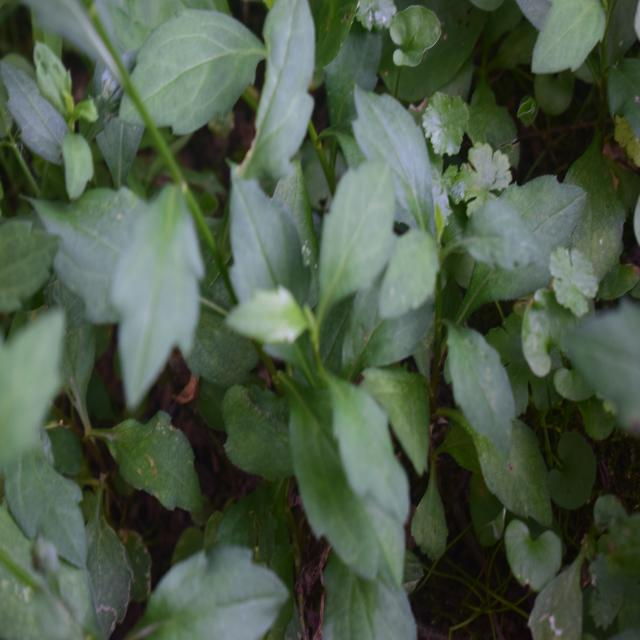Indian aster: (308, 93, 523, 468)
